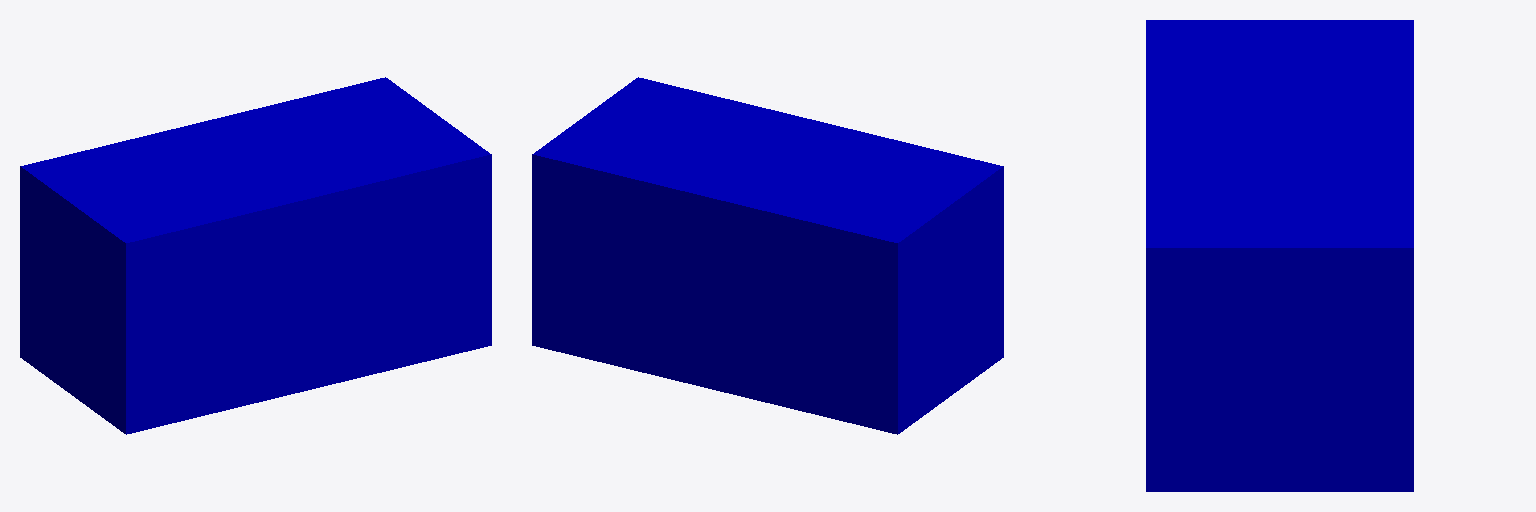
URDF robot description (VIKBot):
<?xml version="1.0"?>

<robot name="VIKBot">

  <material name="blue">
    <color rgba="0 0 0.8 1"/>
  </material>

  <link name="base_link">

    <visual>
      <geometry>
        <box size="0.6 0.3 0.3" />
      </geometry>
      <material name="blue" />
    </visual>

  </link>
</robot>

--- Render facts (derived) ---
3 views of the same robot in one strip: view 1: azimuth 30°, elevation 25°; view 2: azimuth 150°, elevation 25°; view 3: azimuth 270°, elevation 25° (orthographic).
Robot: VIKBot — 1 links, 0 joints (none); root link base_link; default pose: all joints at 0.
Visible links, largest first — view 1: base_link; view 2: base_link; view 3: base_link.
Boxes of the visible links, <box> form: base_link: <box>20,77,491,434</box>; base_link: <box>532,77,1003,434</box>; base_link: <box>1146,20,1413,491</box>.
Size in the robot's own frame: 0.6 by 0.3 by 0.3 metres.
Geometry: primitives only (box / cylinder / sphere), no mesh files.